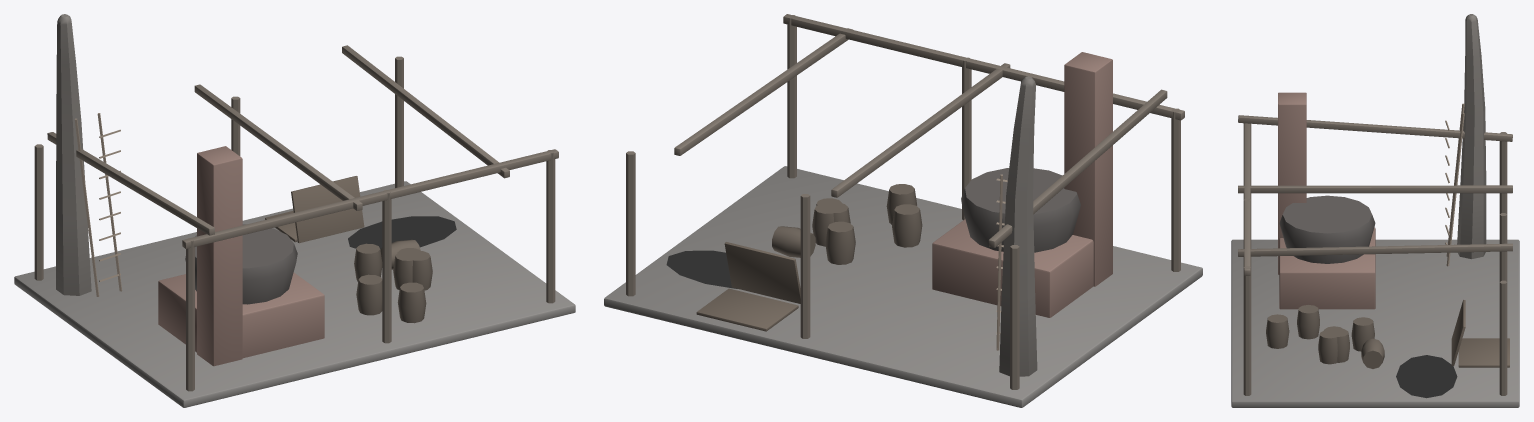
File: pitch_works.gltf
The picture shows the model from 3 angles, left to right: view 1: azimuth 30°, elevation 25°; view 2: azimuth 150°, elevation 25°; view 3: azimuth 270°, elevation 25°; orthographic projection. The views are drawn at different scales.
Parts seen in each view (by area): view 1: Body; view 2: Body; view 3: Body.
Part boxes in pixels (bbox=[...]): Body: bbox=[14, 14, 575, 407]; Body: bbox=[604, 14, 1202, 407]; Body: bbox=[1231, 14, 1519, 407].
Size of the model in its own units: 12 by 8.59 by 9.
